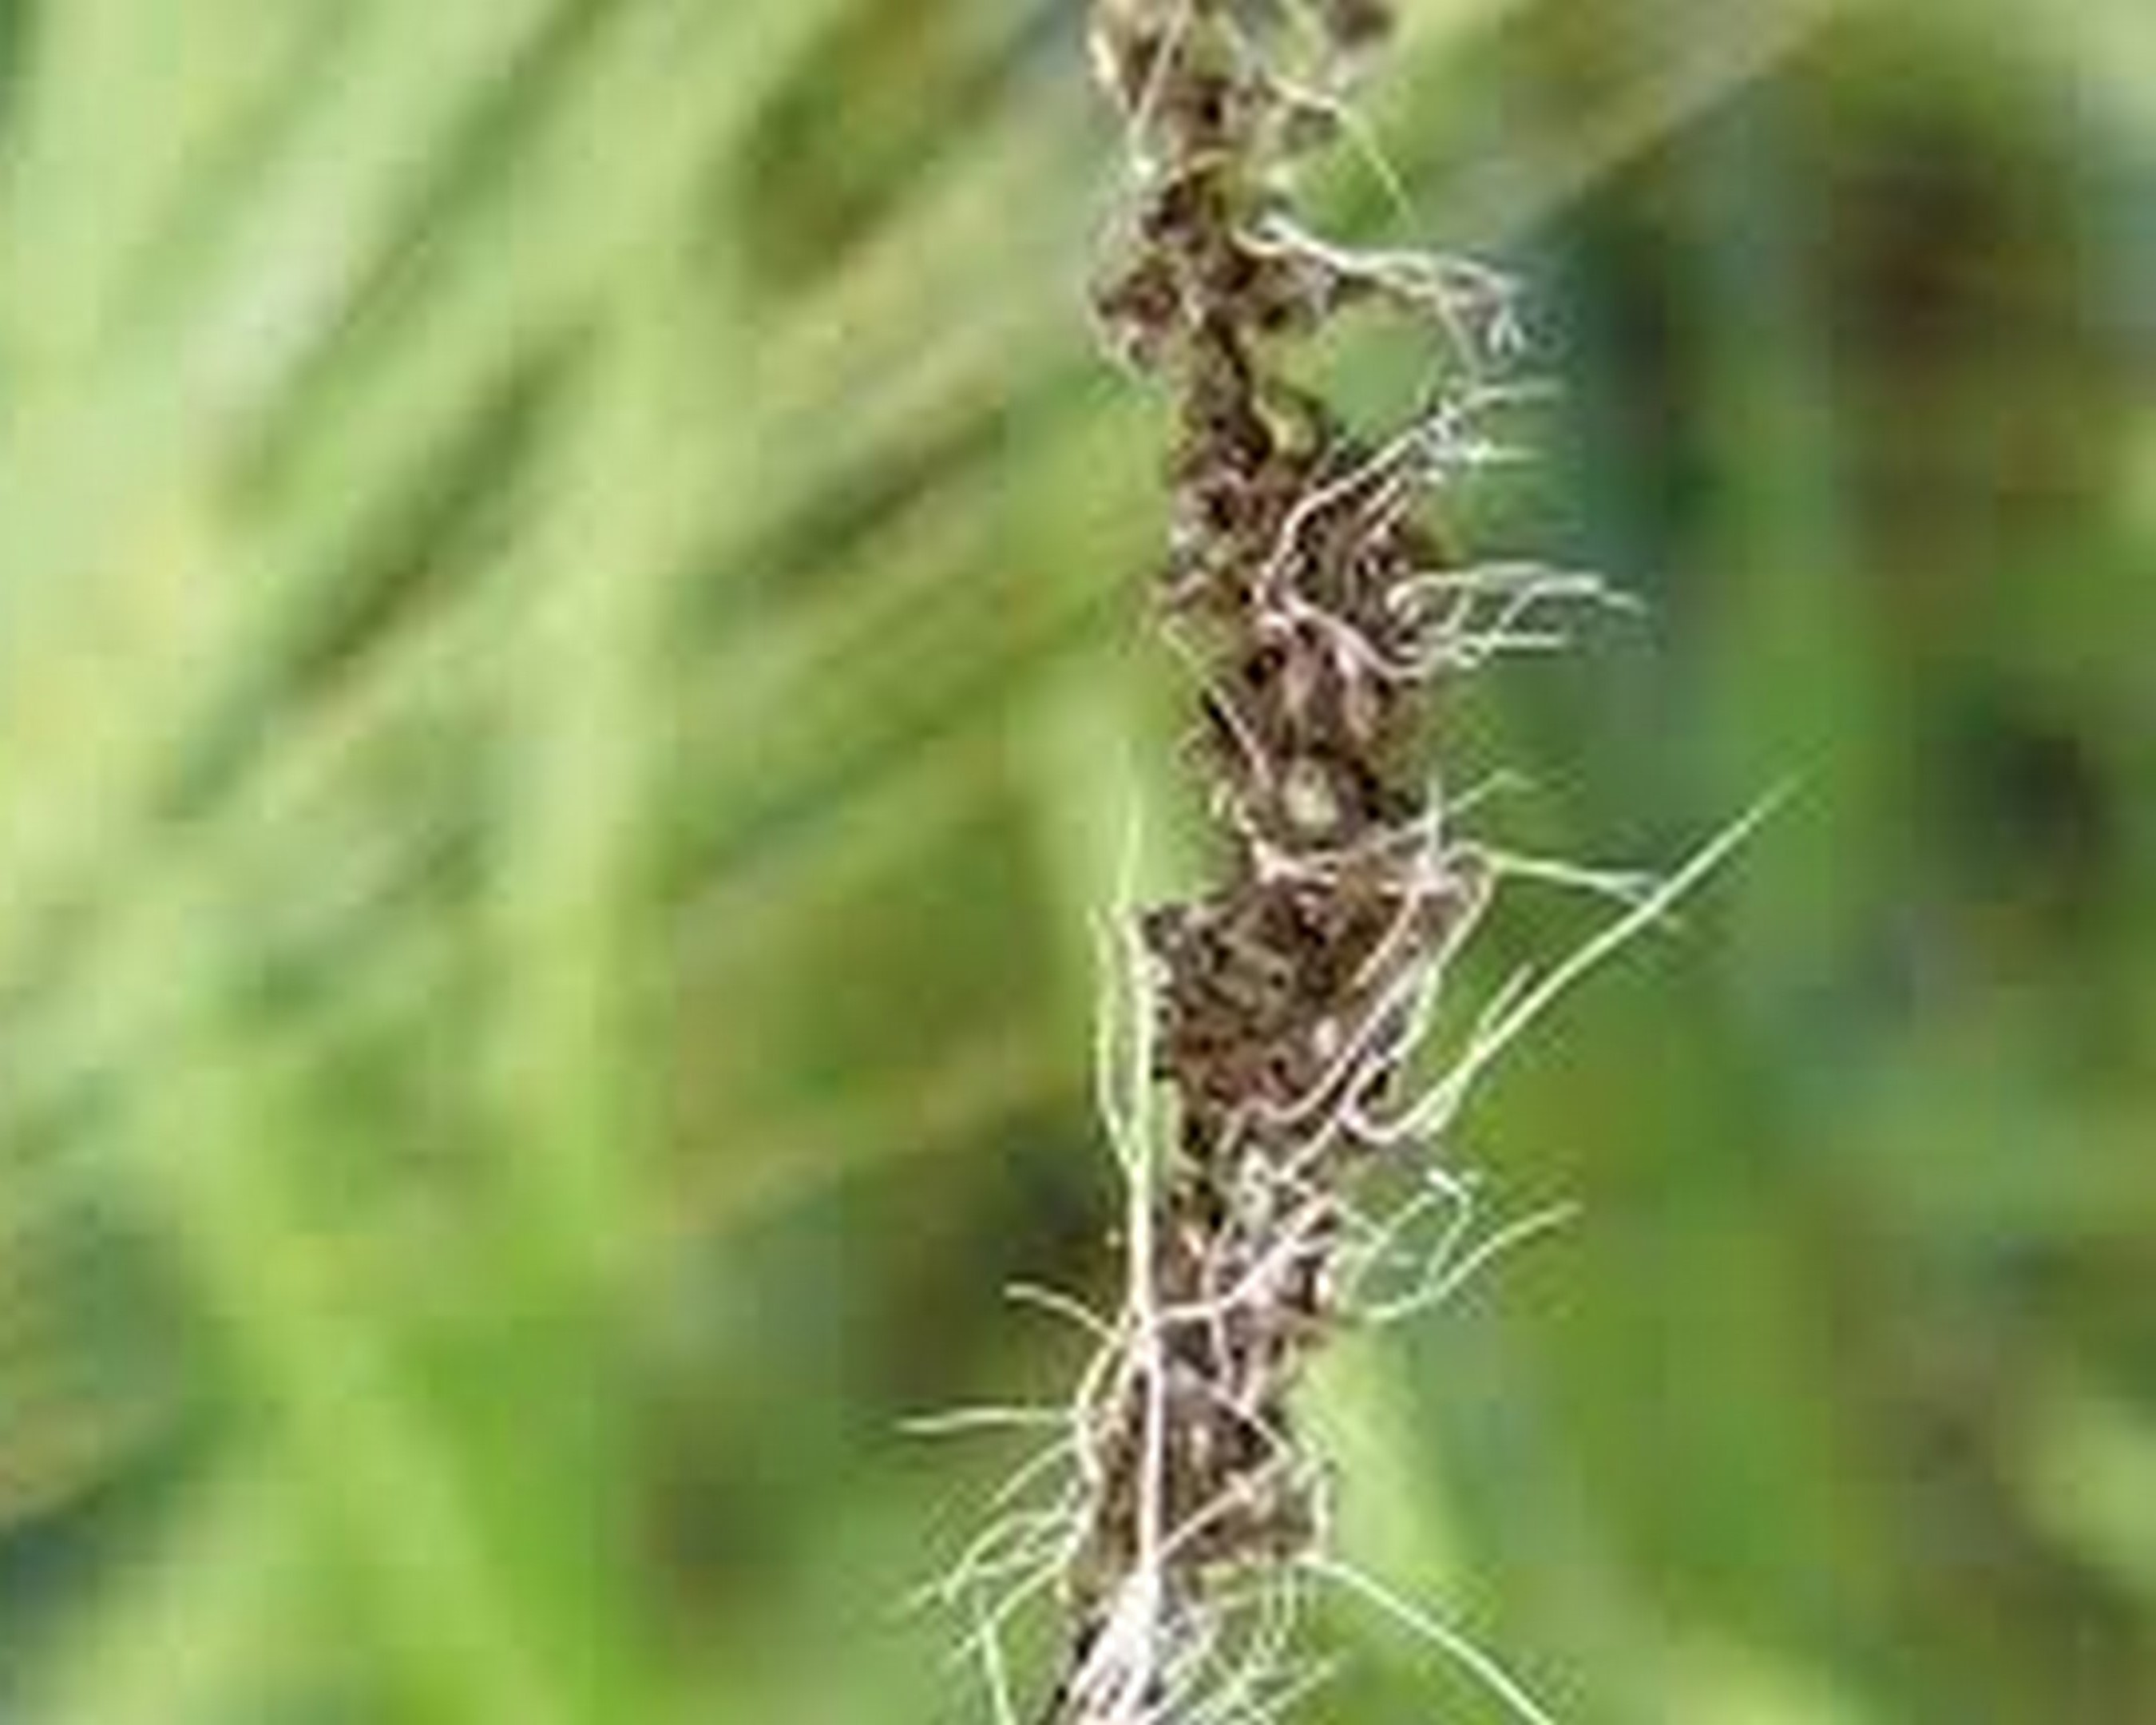Wheat Loose Smut: (1042, 4, 1517, 1651)
